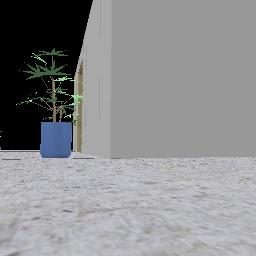planta: (20, 48, 83, 156)
